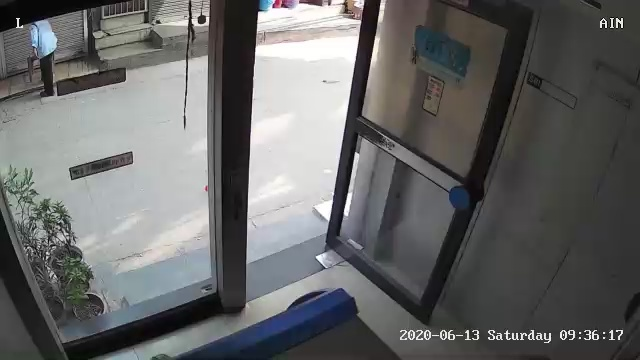open: (191, 5, 533, 328)
